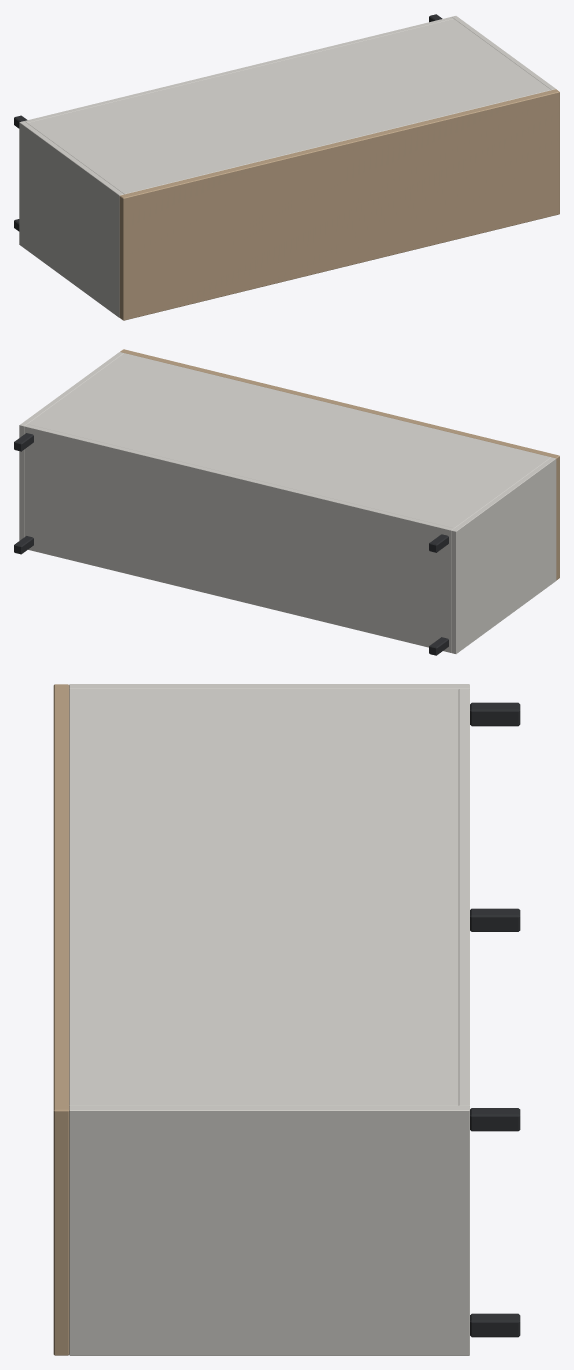
Rendered from sideboard_body.glb.
3 views of the same model, one above another, from view 1: azimuth 30°, elevation 25°; view 2: azimuth 150°, elevation 25°; view 3: azimuth 270°, elevation 25° (orthographic). The views are drawn at different scales.
Visible parts, largest first — view 1: export_tmp; view 2: export_tmp; view 3: export_tmp.
Boxes of the visible parts, <box> form: export_tmp: <box>14,14,559,320</box>; export_tmp: <box>14,349,559,655</box>; export_tmp: <box>53,684,520,1355</box>.
Bounding box in the file's own units: 1.6 × 0.43 × 0.74.
